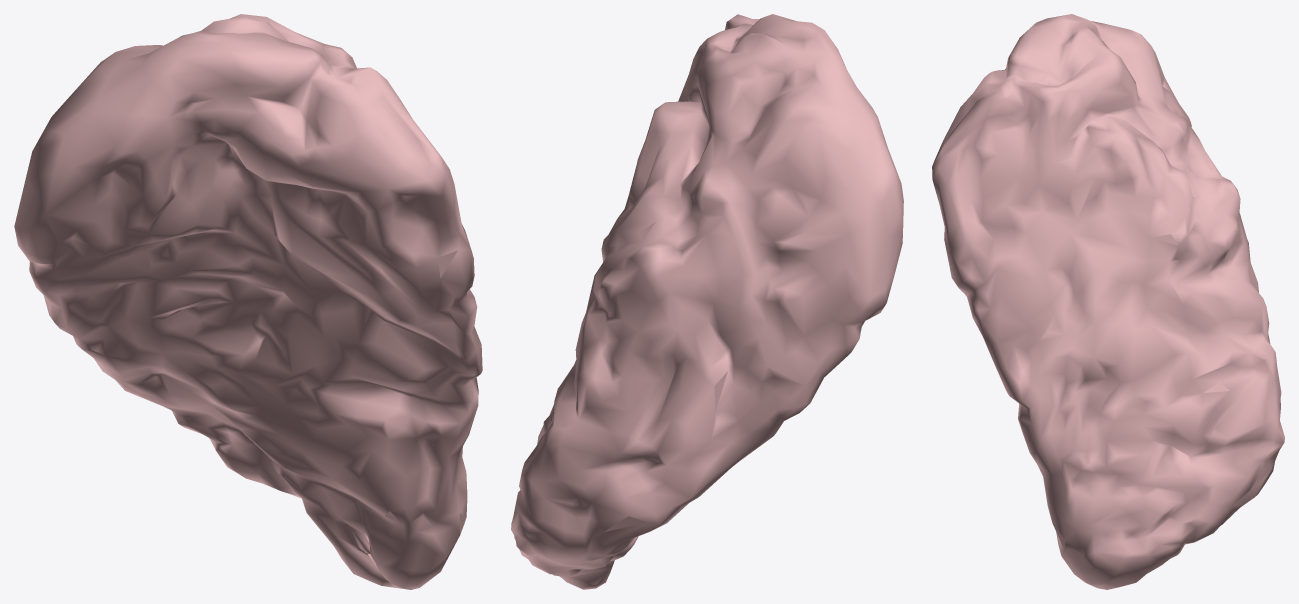
Rendered from 3d-vh-m-palatine-tonsil-l-20.glb.
3 renders of one model, left to right at view 1: azimuth 30°, elevation 25°; view 2: azimuth 150°, elevation 25°; view 3: azimuth 270°, elevation 25°, orthographic. The views are drawn at different scales.
Parts seen in each view (by area): view 1: VH_M_palatine_tonsil_L; view 2: VH_M_palatine_tonsil_L; view 3: VH_M_palatine_tonsil_L.
Part boxes in pixels (bbox=[...]): VH_M_palatine_tonsil_L: bbox=[14, 14, 482, 589]; VH_M_palatine_tonsil_L: bbox=[511, 14, 903, 589]; VH_M_palatine_tonsil_L: bbox=[932, 14, 1284, 589].
Size of the model in its own units: 0.0163 by 0.0243 by 0.0159.
